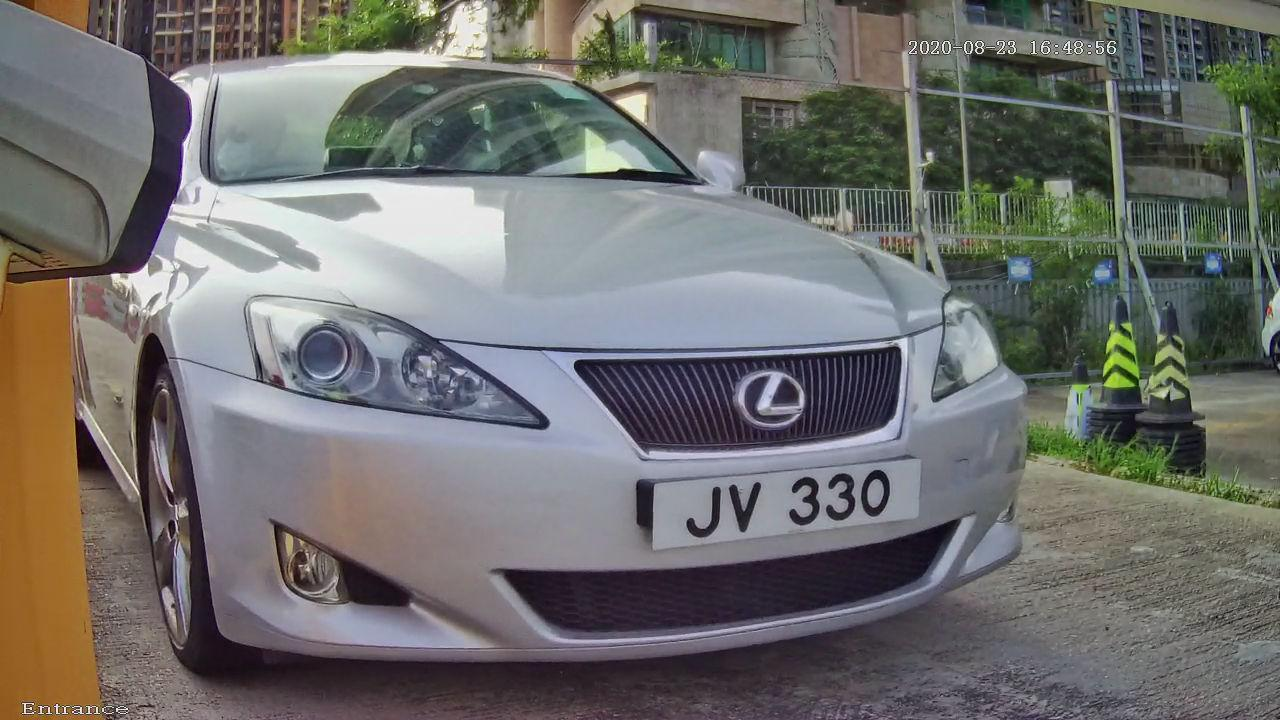Car: (46, 13, 1109, 714)
License Plate: (603, 421, 946, 590)
